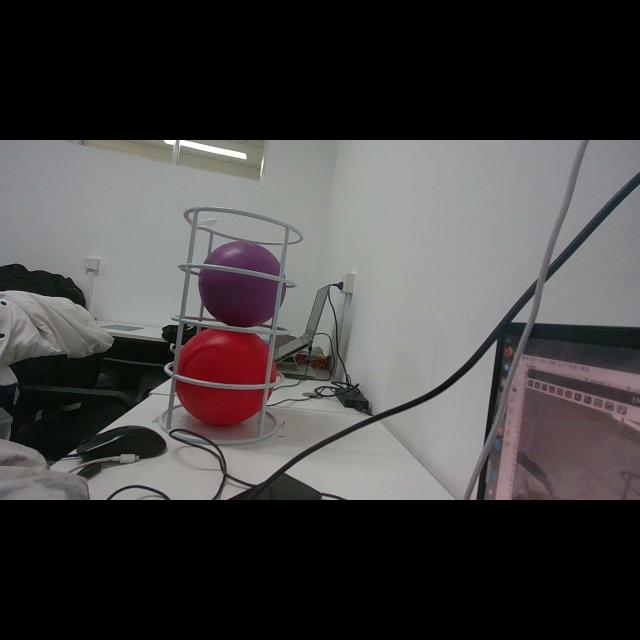P: (197, 241, 283, 329)
R: (174, 326, 278, 424)
S: (157, 206, 305, 446)
